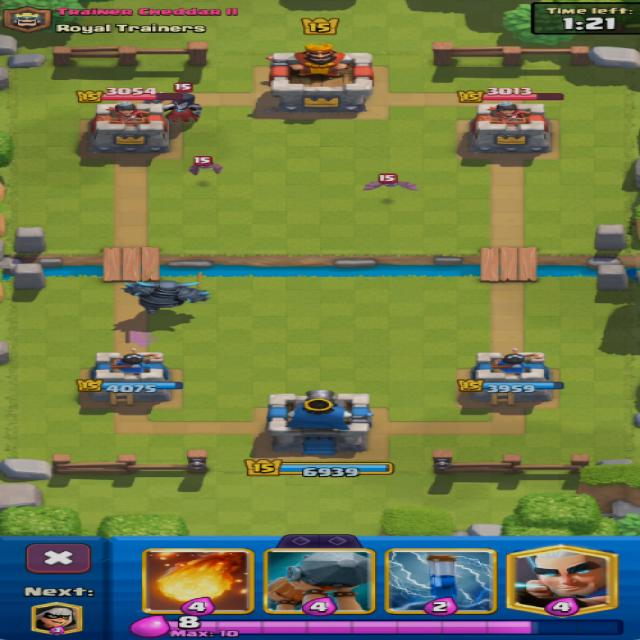Enemy-Bat: (0, 0, 639, 386), (364, 174, 417, 190), (191, 157, 221, 175)
Enemy-KingTower: (269, 44, 372, 113)
Enemy-NightWitch: (164, 94, 201, 121), (145, 100, 160, 103)
Enemy-PrincessTower: (468, 102, 550, 155), (88, 101, 168, 152)
